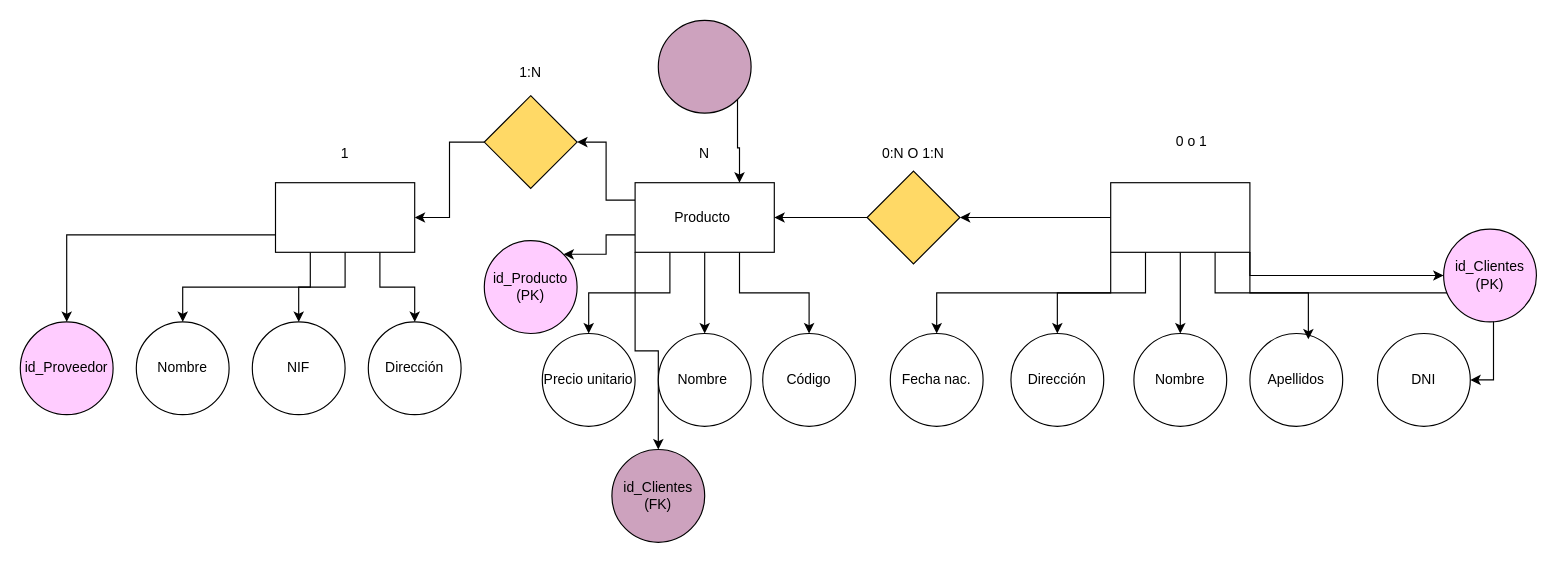
Image size: 1557x563. Some labels were removed from this diagram. The centre of each missing label's shape, as x and y in pixels:
"Clientes" goes at point 1180,217.
"Compra" goes at point 913,217.
"id_Proveedor (FK)" goes at point 704,66.
"Proveedor" goes at point 344,217.
"Suministro" goes at point 530,141.
